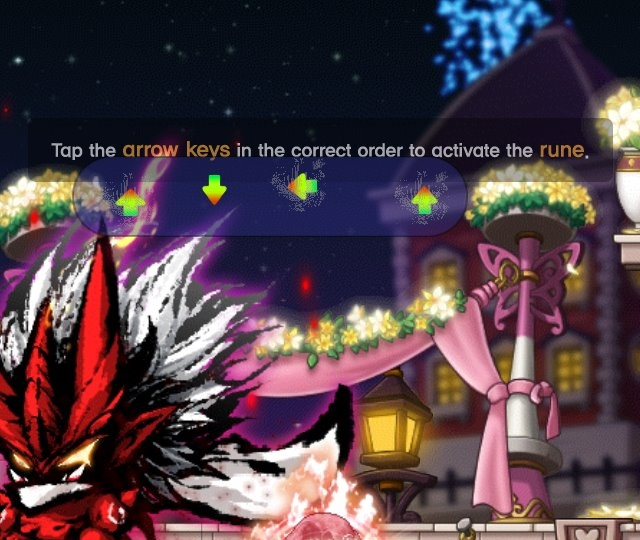down: (196, 168, 236, 212)
left: (280, 167, 323, 204)
up: (406, 181, 443, 219), (113, 183, 147, 221)
